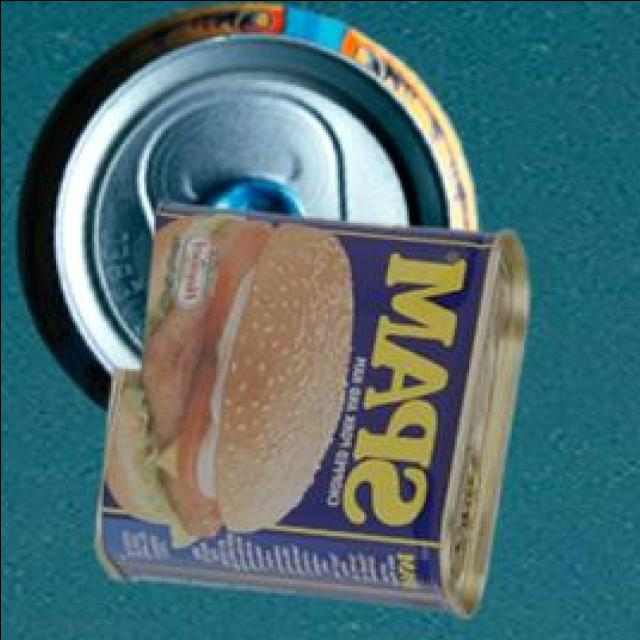logam: (13, 6, 474, 417), (92, 204, 524, 620)
